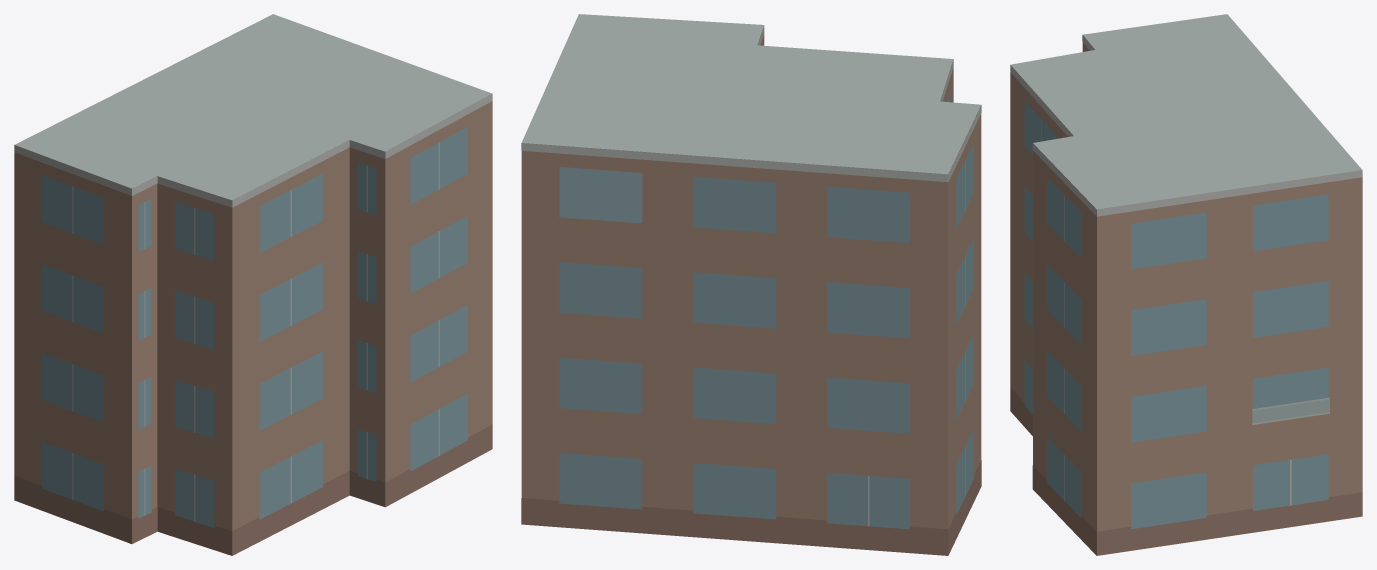
Rendered from survey-upis-32860228.glb.
The picture shows the model from 3 angles, left to right: view 1: azimuth 30°, elevation 25°; view 2: azimuth 150°, elevation 25°; view 3: azimuth 270°, elevation 25°; orthographic projection. The views are drawn at different scales.
Visible parts, largest first — view 1: survey-upis-32860228.tmp; view 2: survey-upis-32860228.tmp; view 3: survey-upis-32860228.tmp.
Part boxes in pixels (x1,y1,x2,y2): survey-upis-32860228.tmp: [14, 14, 492, 555]; survey-upis-32860228.tmp: [521, 14, 981, 555]; survey-upis-32860228.tmp: [1010, 14, 1362, 555].
Bounding box in the file's own units: 14.31 × 11.81 × 10.9.
